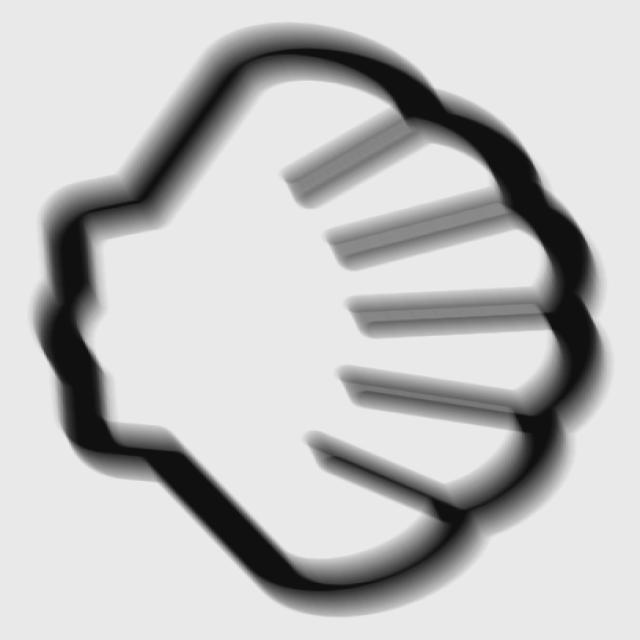shell: (15, 13, 625, 635)
